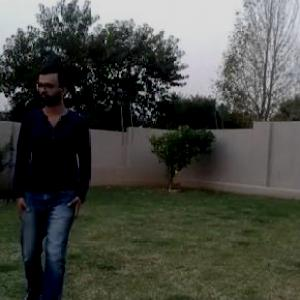follow: (9, 60, 90, 299)
